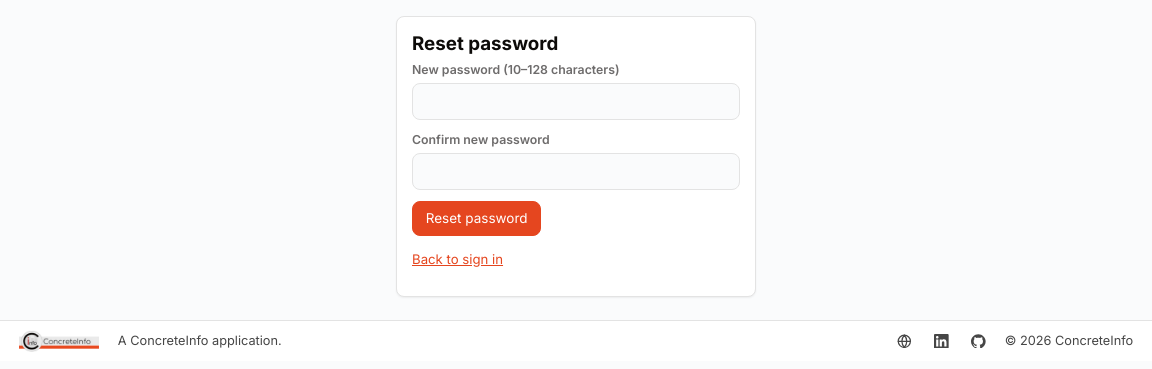
Test case: ResetPasswordPage › submits the token and password, then shows the success panel
Type "longenoughpass" into the password field labelled "New password (10–128 characters)" at (576, 102), box [412,83,740,120]
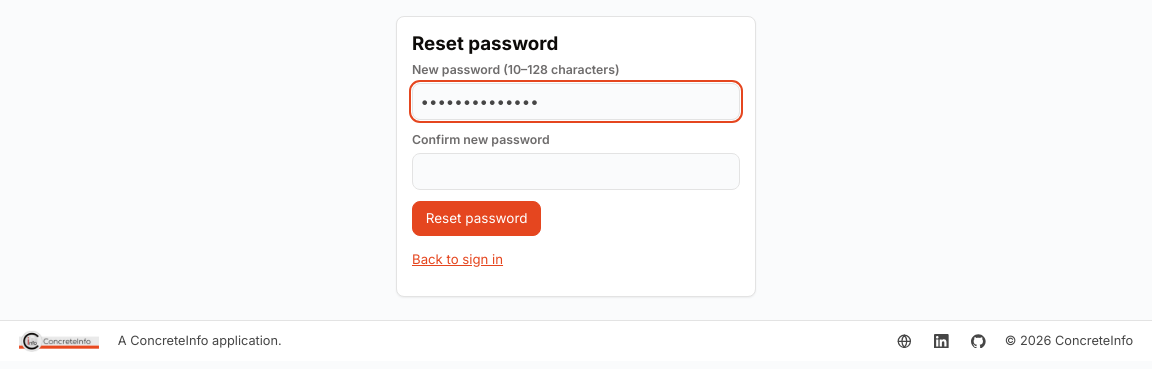
Type "longenoughpass" into the password field labelled "Confirm new password" at (576, 172), box [412,153,740,190]
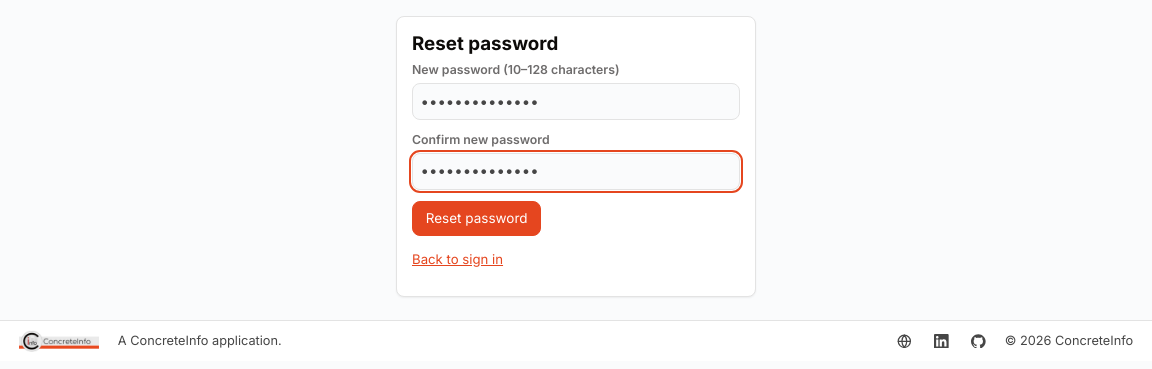
Click the button "Reset password" at (477, 219), box [412,201,541,236]
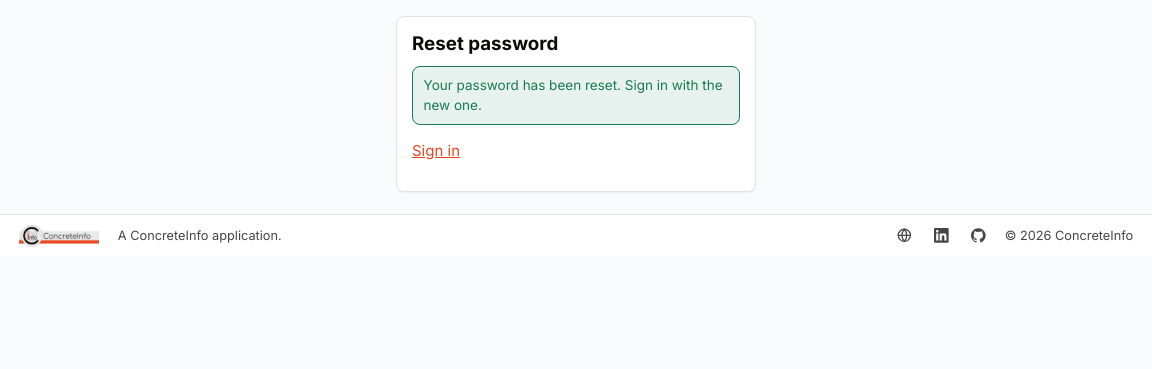
expect the text "Your password has been reset. Sign in with the new one." is shown: met, box [412,66,740,125]
